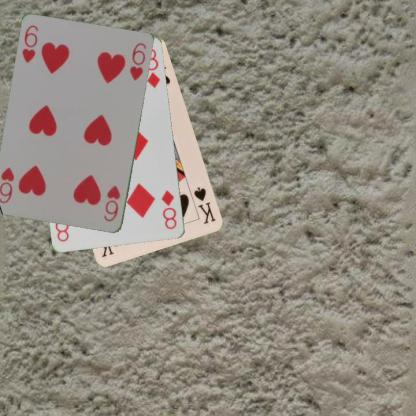6h: (102, 183, 122, 223), (20, 22, 39, 64)
8d: (159, 188, 178, 231)
Ks: (191, 184, 217, 226)
